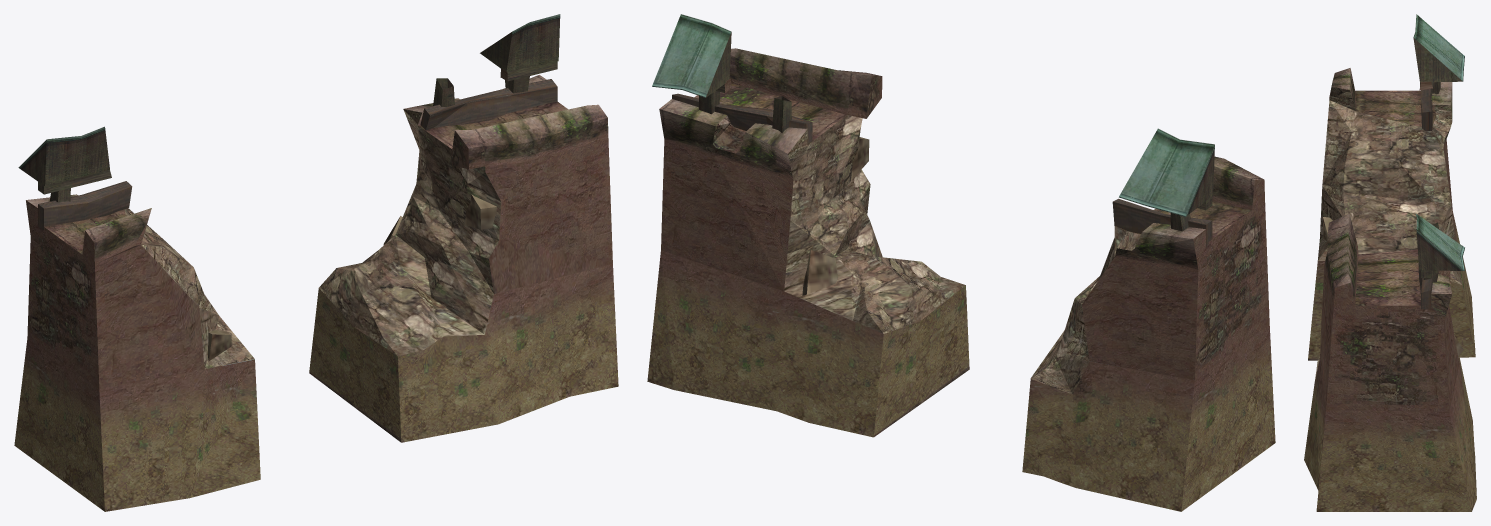
File: C1SMWA20RUBH.obj
3 views of the same model, side by side, from view 1: azimuth 30°, elevation 25°; view 2: azimuth 150°, elevation 25°; view 3: azimuth 270°, elevation 25° (orthographic). The views are drawn at different scales.
Visible parts, largest first — view 1: Node 0; view 2: Node 0; view 3: Node 0.
Boxes of the visible parts, bbox=[...] form: Node 0: bbox=[14, 14, 618, 511]; Node 0: bbox=[647, 14, 1275, 511]; Node 0: bbox=[1304, 14, 1476, 511].
Size of the model in its own units: 20 by 12.46 by 6.8.
Materials: 5 (5 with a texture image).
